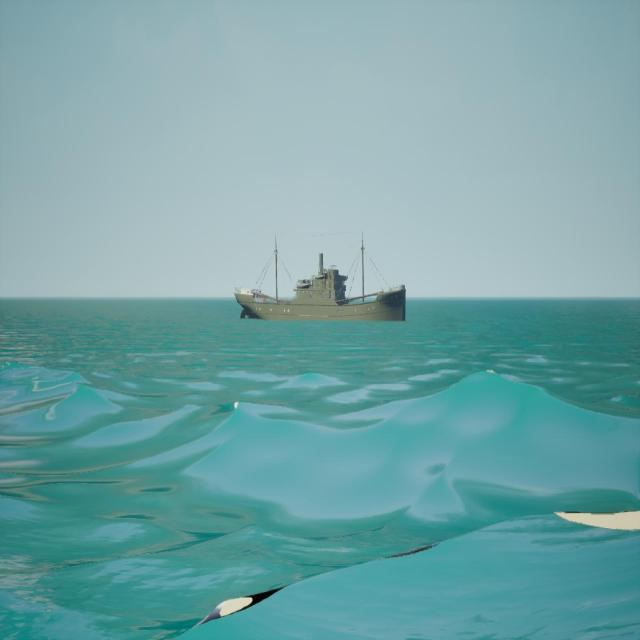fishing ship: (234, 233, 406, 324)
